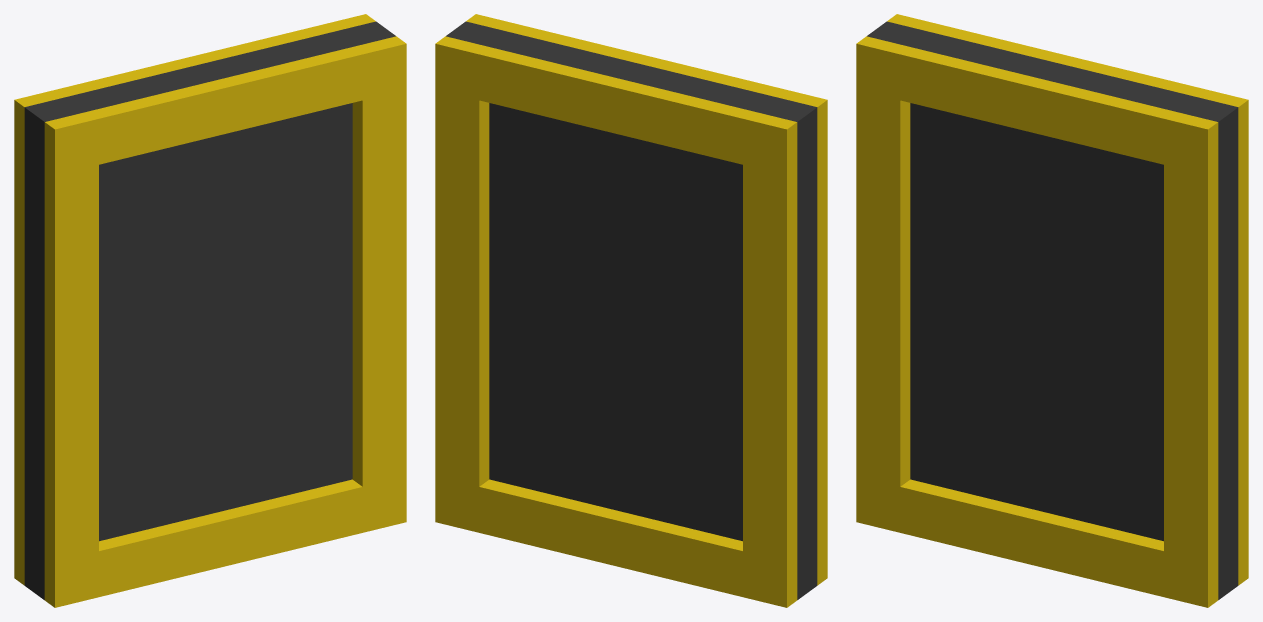
Rendered from door.fbx.
The picture shows the model from 3 angles, left to right: view 1: azimuth 30°, elevation 25°; view 2: azimuth 150°, elevation 25°; view 3: azimuth 330°, elevation 25°; orthographic projection.
Visible parts, largest first — view 1: Door; view 2: Door; view 3: Door.
Part boxes in pixels (<box>): Door: <box>14,14,406,607</box>; Door: <box>435,14,827,607</box>; Door: <box>856,14,1248,607</box>.
Size of the model in its own units: 200 by 260 by 40.
